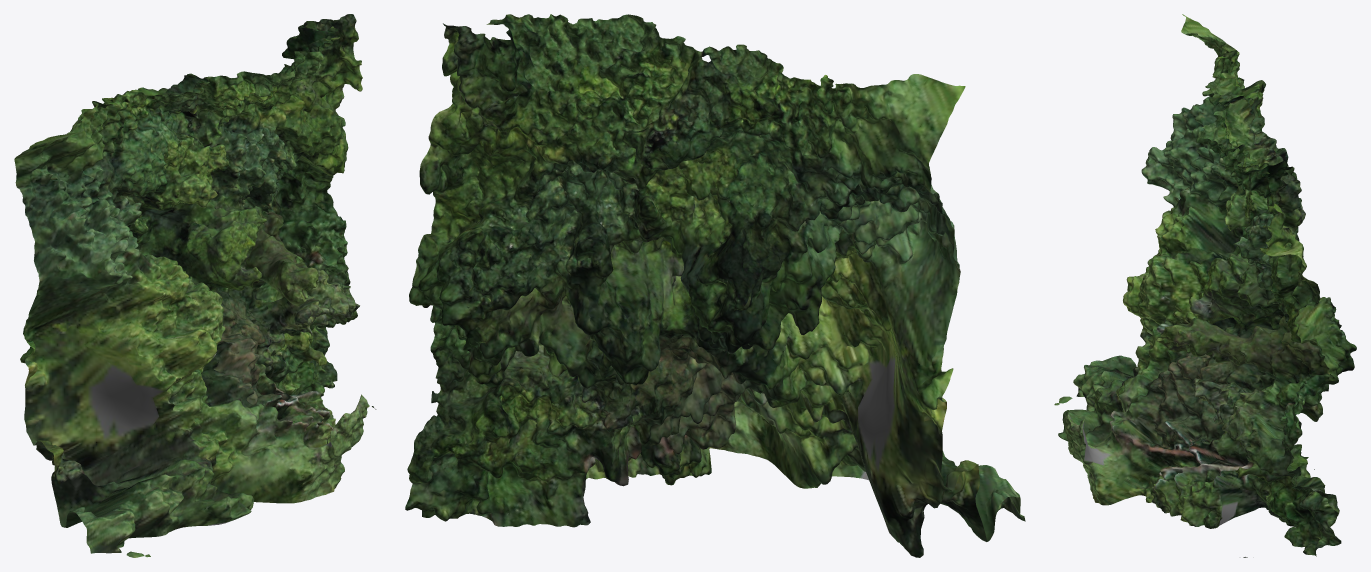
The model's file is Tile_+003_+008.fbx.
3 renders of one model, left to right at view 1: azimuth 30°, elevation 25°; view 2: azimuth 150°, elevation 25°; view 3: azimuth 270°, elevation 25°, orthographic. The views are drawn at different scales.
Visible parts, largest first — view 1: DefaultName; view 2: DefaultName; view 3: DefaultName.
Boxes of the visible parts, left/top/right/bottom form: DefaultName: left=14, top=14, right=376, bottom=557; DefaultName: left=405, top=14, right=1025, bottom=557; DefaultName: left=1054, top=14, right=1356, bottom=557.
Bounding box in the file's own units: 22.54 × 22.54 × 16.67.
